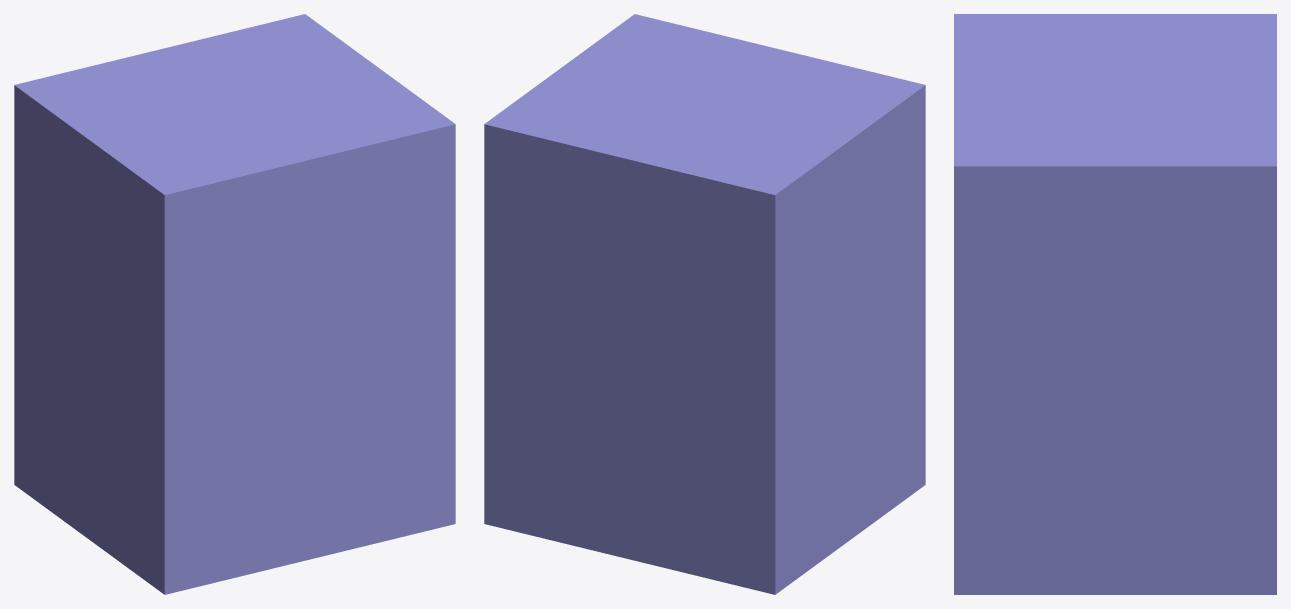
Rendered from SciFi_garbage_can.DAE.
3 renders of one model, left to right at view 1: azimuth 30°, elevation 25°; view 2: azimuth 150°, elevation 25°; view 3: azimuth 270°, elevation 25°, orthographic. The views are drawn at different scales.
Parts seen in each view (by area): view 1: bounds; view 2: bounds; view 3: bounds.
Boxes of the visible parts, x1,y1,x2,y2 form: bounds: (14,14,455,594); bounds: (484,14,925,594); bounds: (954,14,1276,594).
Size of the model in its own units: 85.65 by 76.77 by 112.
